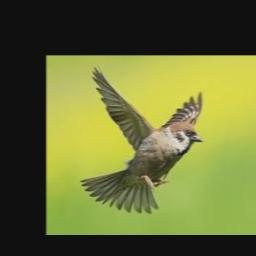Sparrow: (80, 65, 203, 214)
